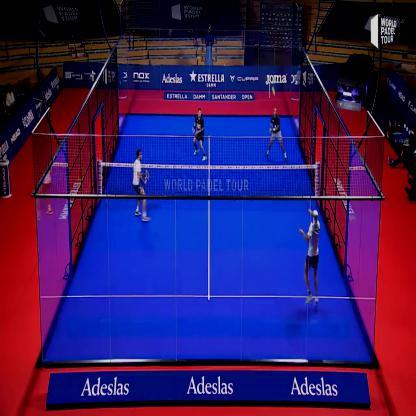ball: (269, 82, 276, 99)
